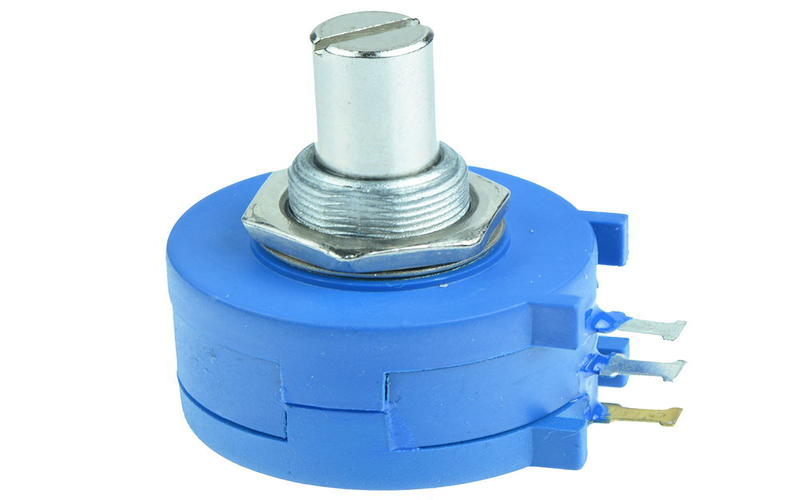Switches: (389, 231, 721, 500)
